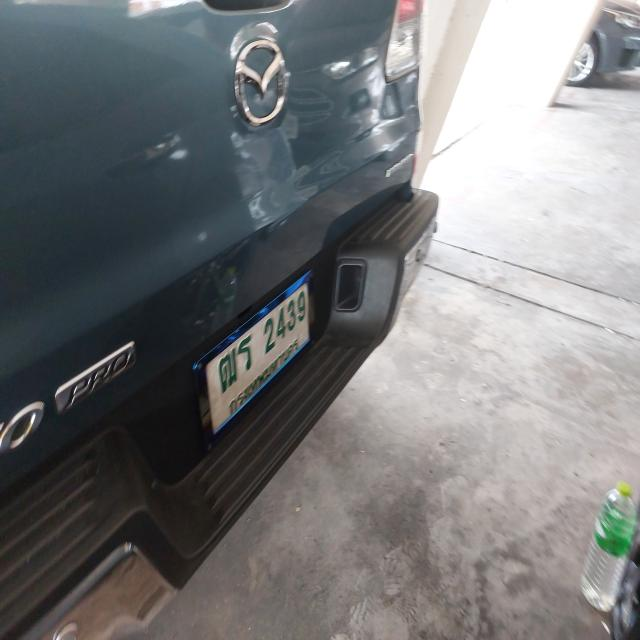license_plate: (190, 267, 320, 453)
